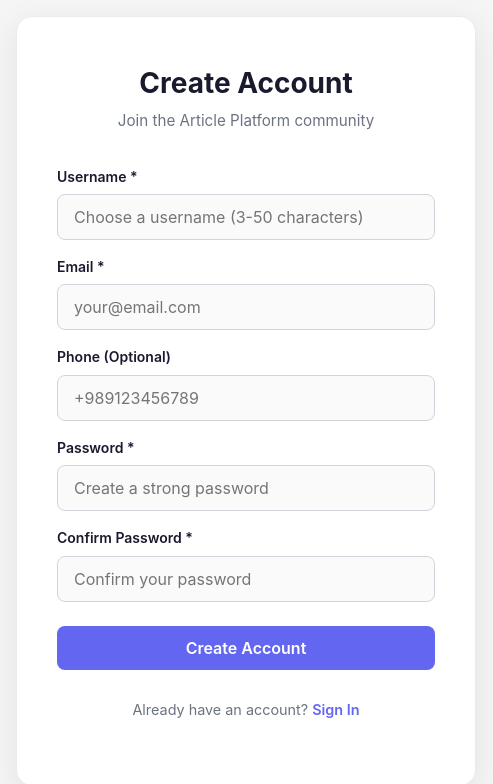
RegisterPage › Form Validation › should show validation errors when submitting empty form
Click the button "Create Account" at (246, 648), box left=57, top=626, right=435, bottom=670
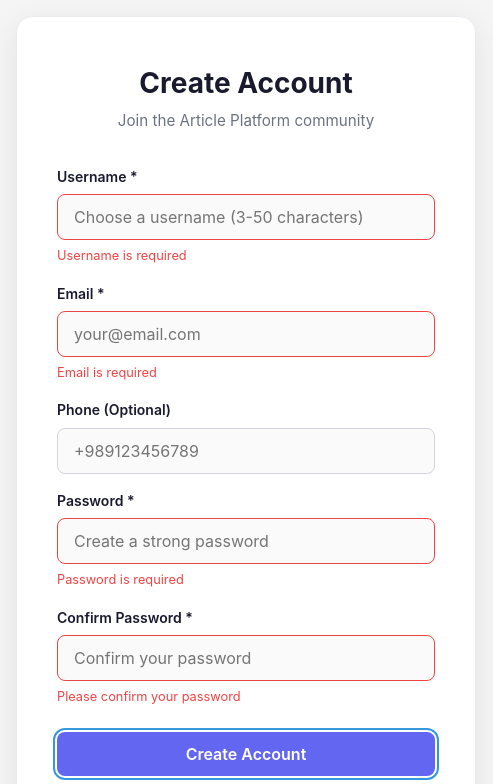
Result: the text "Username is required" is shown at left=57, top=248, right=187, bottom=263
Result: the text "Email is required" is shown at left=57, top=365, right=157, bottom=380
Result: the text "Password is required" is shown at left=57, top=572, right=184, bottom=587
